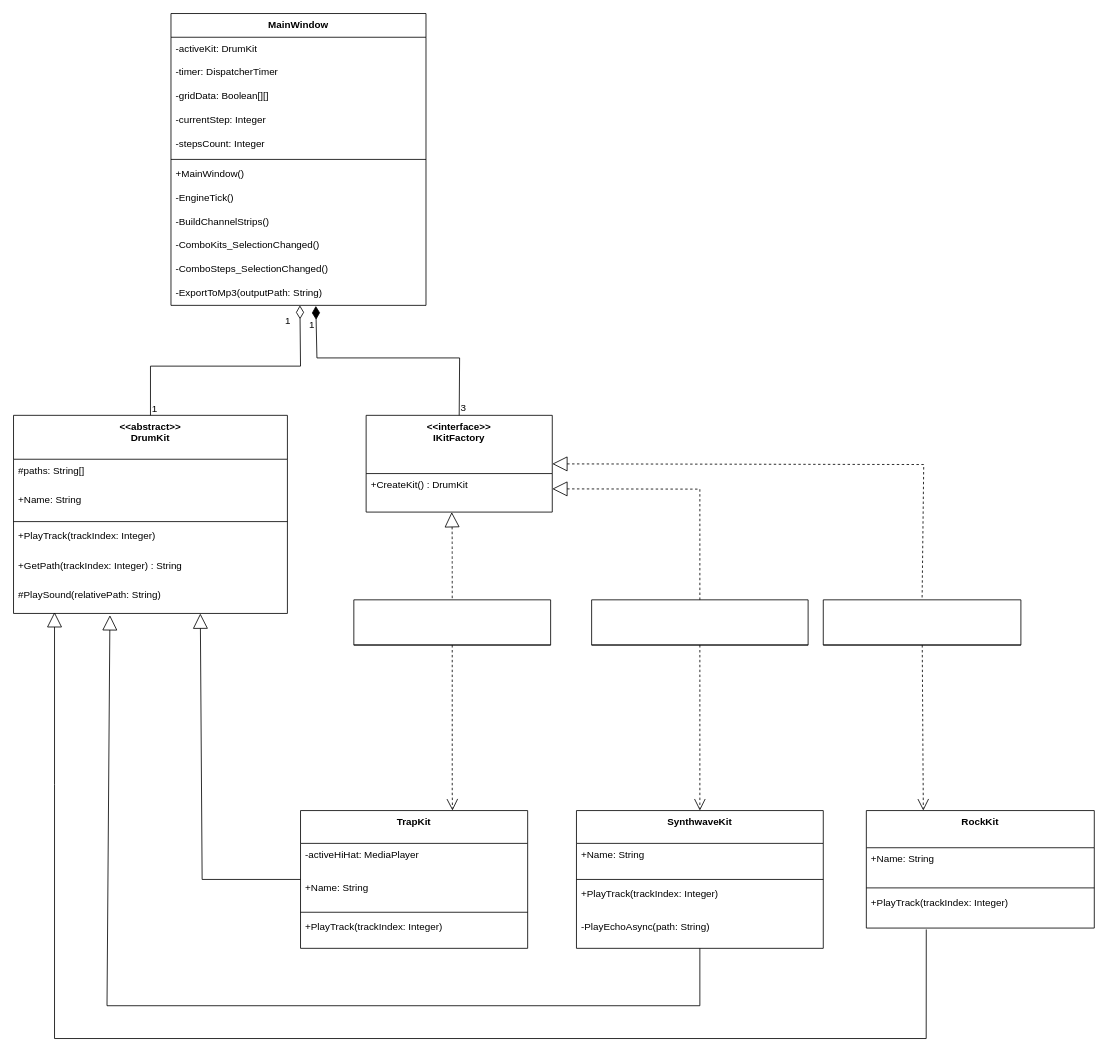
Some shapes in this 1108 by 1052 pixel diagram are drawn without their labels. Here are the shapes that lost their labels. From the top down, the centre of each, then its label:
the point at 452,622: TrapKitFactory
the point at 699,622: SynthwaveKitFactory
the point at 921,622: RockKitFactory
